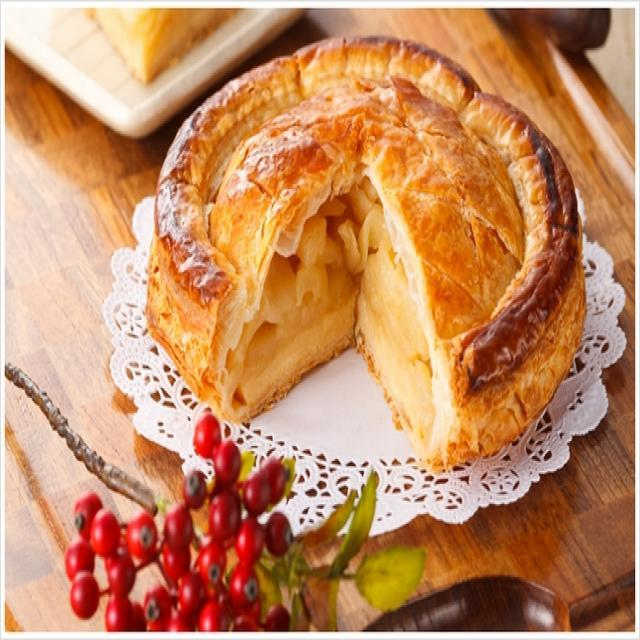Apple: (146, 36, 585, 456)
